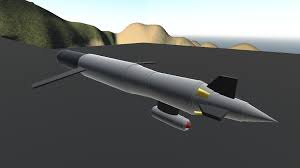ten_lua: (42, 43, 279, 132)
